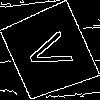V: (24, 26, 82, 76)
